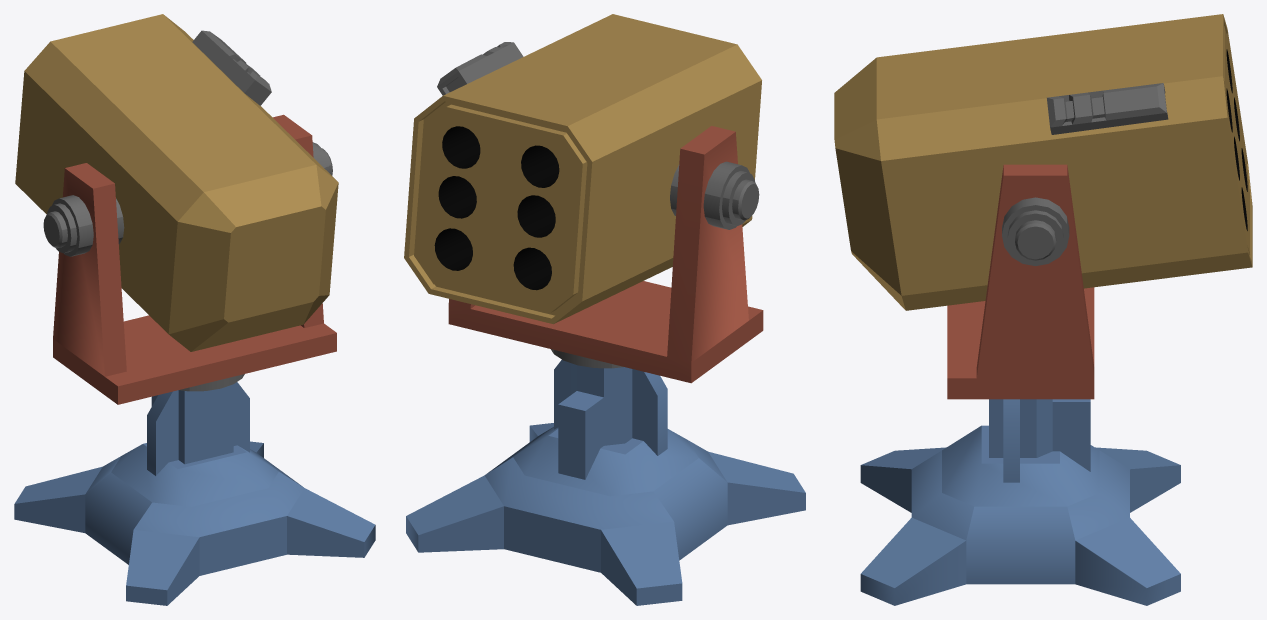
Rendered from Missile Tower.fbx.
The picture shows the model from 3 angles, left to right: view 1: azimuth 30°, elevation 25°; view 2: azimuth 150°, elevation 25°; view 3: azimuth 270°, elevation 25°; orthographic projection. The views are drawn at different scales.
Visible parts, largest first — view 1: Missile Turret; view 2: Missile Turret; view 3: Missile Turret.
Boxes of the visible parts, <box> form: Missile Turret: <box>14,14,375,605</box>; Missile Turret: <box>404,14,805,605</box>; Missile Turret: <box>834,14,1252,605</box>.
Size of the model in its own units: 640 by 976 by 750.
